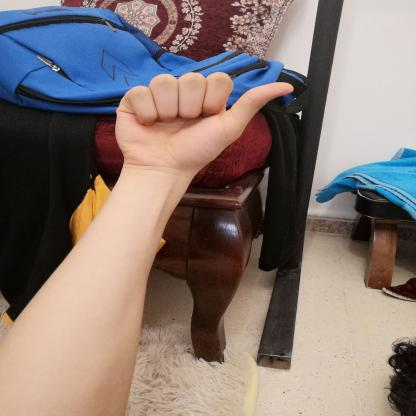DAD: (102, 63, 308, 180)
